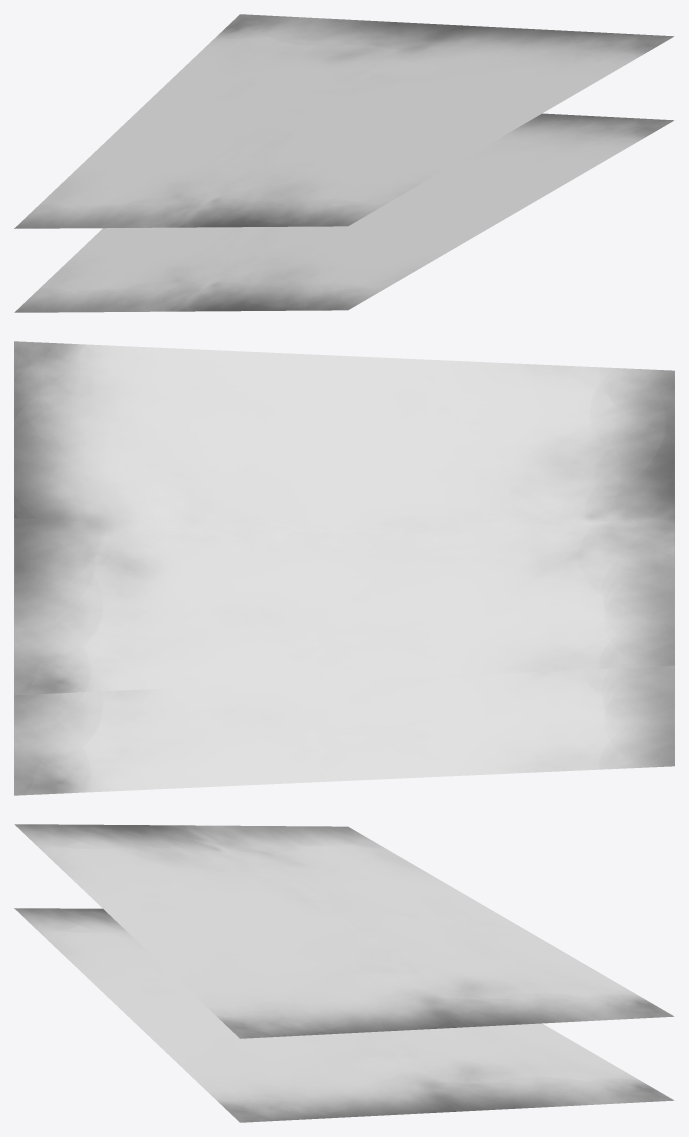
The model's file is CourseWinter_CurveFloor_7_3.fbx.
The picture shows the model from 3 angles, top to bottom: view 1: azimuth 30°, elevation 25°; view 2: azimuth 150°, elevation 25°; view 3: azimuth 270°, elevation 25°; orthographic projection. The views are drawn at different scales.
Parts seen in each view (by area): view 1: polySurface697; view 2: polySurface697; view 3: polySurface697.
Boxes of the visible parts, box(x1,y1,x2,y2) form: polySurface697: box(14, 14, 674, 312); polySurface697: box(14, 341, 674, 795); polySurface697: box(14, 824, 674, 1122).
Size of the model in its own units: 7.56 by 2 by 7.13.
Materials: 1 (1 with a texture image).
